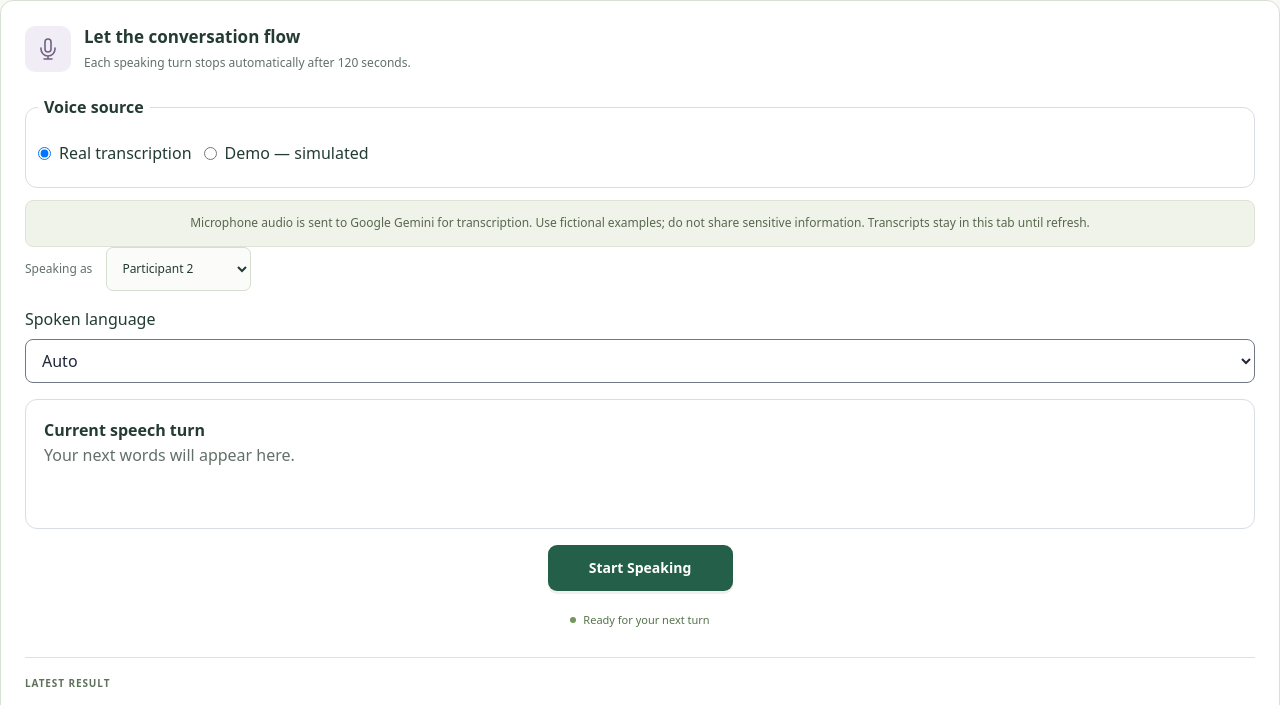
Test: configured real mode starts real service, preserves independent language, and never falls back
Expected: the radio button labelled "Real transcription" is checked, [38,147,51,160]
Select "العربية" in the dropdown labelled "Spoken language": [640, 361] box [25,339,1255,383]
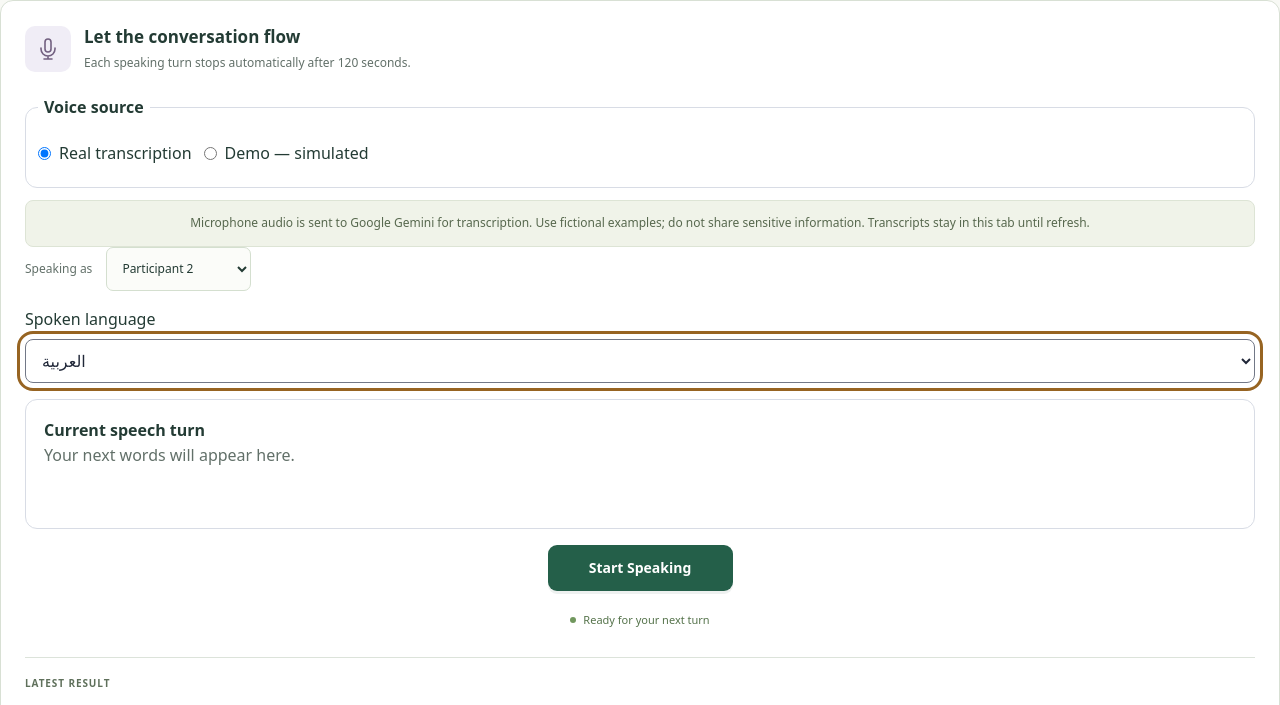
Click the button "Start Speaking": [640, 568] box [548,545,732,591]
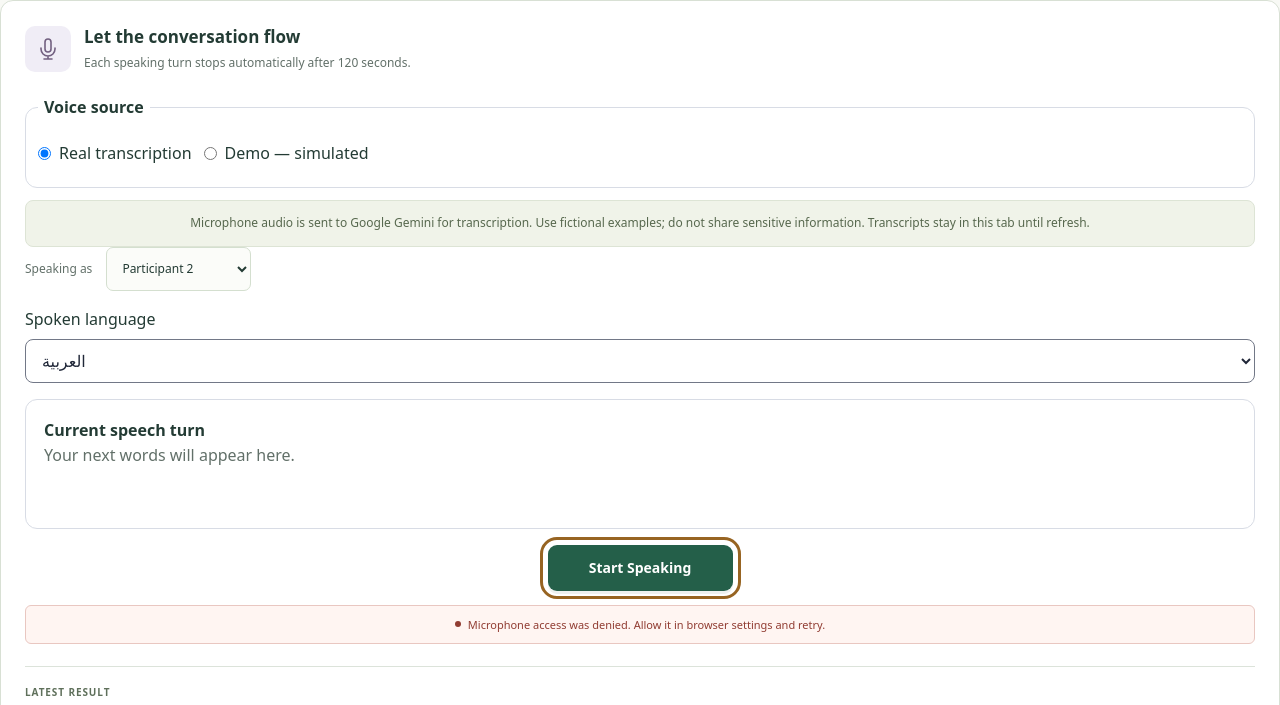
Expected: the radio button labelled "Real transcription" is checked, [38,147,51,160]
Now the message shows "Microphone access was denied", box [468,617,825,632]
